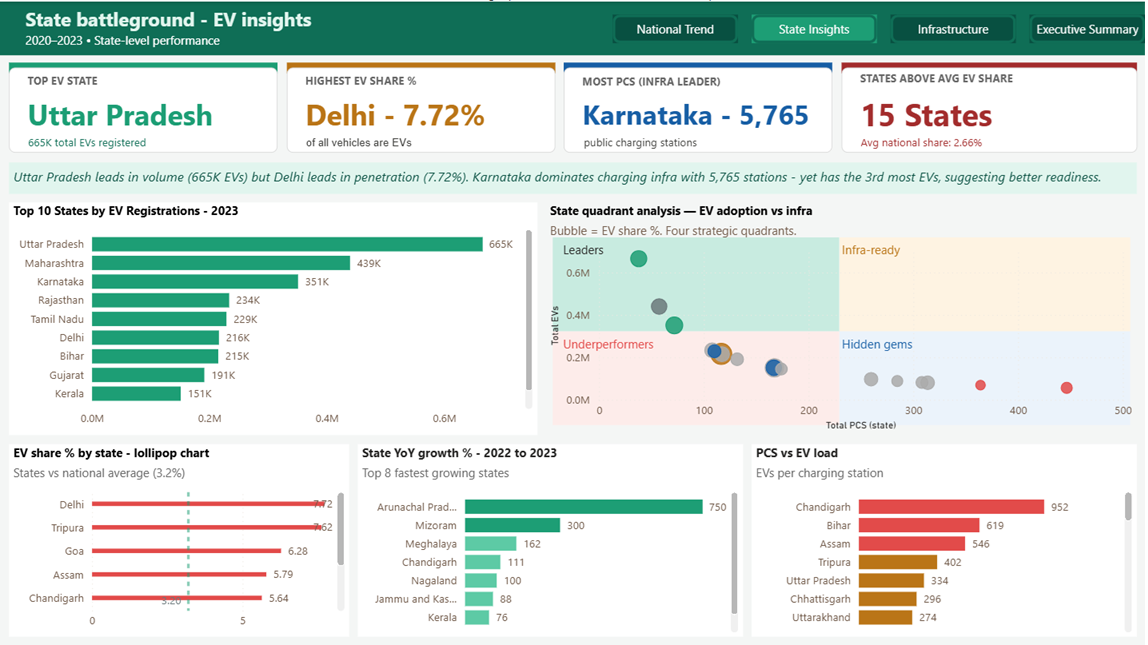

Layout of this report page (visuals, bound fields, positions):
{"tool":"powerbi","page":{"name":"State Insights","canvas":[1280,720],"ordinal":1},"visuals":[{"type":"shape","box":[0,0,1280,60],"z":0},{"type":"textbox","box":[24,0,880,80],"z":1000},{"type":"actionButton","box":[685,14,140,32],"z":2000},{"type":"actionButton","box":[840,14,140,32],"z":3000},{"type":"actionButton","box":[995,14,140,32],"z":4000},{"type":"actionButton","box":[1150,14,130,32],"z":5000},{"type":"shape","box":[10,68,300,12],"z":6000},{"type":"cardVisual","fields":{"Data":["EV Share %.Top EV State"]},"box":[10,74,300,95],"z":7000},{"type":"textbox","box":[24,144,304,80],"z":8000},{"type":"shape","box":[320,68,300,12],"z":9000},{"type":"cardVisual","fields":{"Data":["EV Share %.Highest EV Share %"]},"box":[320,74,300,95],"z":10000},{"type":"textbox","box":[334,144,304,80],"z":11000},{"type":"shape","box":[630,68,300,12],"z":12000},{"type":"cardVisual","fields":{"Data":["State-wise EVPCS.Most PCS State"]},"box":[630,74,300,95],"z":13000},{"type":"textbox","box":[644,144,304,80],"z":14000},{"type":"shape","box":[940,68,330,12],"z":15000},{"type":"cardVisual","fields":{"Data":["EV Share %.States Above Avg EV Share"]},"box":[940,74,330,95],"z":16000},{"type":"textbox","box":[954,144,326,80],"z":17000},{"type":"textbox","box":[10,180,1260,35],"z":18000},{"type":"clusteredBarChart","title":"Top 10 States by EV Registrations  - 2023","fields":{"Category":["EV Share %.State"],"Y":["Sum(EV Share %.Total_EV)"]},"box":[10,225,590,260],"z":19000},{"type":"shape","box":[938,369,325,105],"z":20000},{"type":"shape","box":[618,369,320,105],"z":21000},{"type":"shape","box":[938,264,325,105],"z":22000},{"type":"shape","box":[618,264,320,105],"z":23000},{"type":"scatterChart","title":"State quadrant analysis — EV adoption vs infra","fields":{"Y":["Sum(EV Share %.Total_EV)"],"Series":["EV Share %.State"],"Size":["Sum(EV Share %.EV_Share_Percent)"],"X":["EV Share %.PCS per EV Ratio"]},"box":[610,225,660,260],"z":24000},{"type":"textbox","box":[624,264,224,120],"z":25000},{"type":"textbox","box":[936,264,160,96],"z":26000},{"type":"textbox","box":[624,368,160,64],"z":27000},{"type":"textbox","box":[936,368,152,56],"z":28000},{"type":"clusteredBarChart","title":"EV share % by state - lollipop chart","fields":{"Category":["EV Share %.State"],"Y":["Sum(EV Share %.EV_Share_Percent)"]},"box":[10,495,380,215],"z":29000},{"type":"clusteredBarChart","title":"State YoY growth % - 2022 to 2023","fields":{"Category":["State_Dim.State"],"Y":["State-wise EV Registrations.State YoY Growth %"]},"box":[400,495,430,215],"z":30000},{"type":"clusteredBarChart","title":"PCS vs EV load","fields":{"Category":["State_Dim.State"],"Y":["EV Share %.EV Load per PCS"]},"box":[840,495,430,215],"z":31000}]}

Visuals, with their boxes in screenshot pixels (x1, y1, x2, y2), scaled from the page's 1280x720 canvas onto the 1148x645 screenshot:
shape: (0, 0, 1147, 54)
textbox: (22, 0, 811, 72)
actionButton: (614, 13, 740, 41)
actionButton: (753, 13, 879, 41)
actionButton: (892, 13, 1018, 41)
actionButton: (1031, 13, 1147, 41)
shape: (9, 61, 278, 72)
cardVisual - EV Share %.Top EV State: (9, 66, 278, 151)
textbox: (22, 129, 294, 201)
shape: (287, 61, 556, 72)
cardVisual - EV Share %.Highest EV Share %: (287, 66, 556, 151)
textbox: (300, 129, 572, 201)
shape: (565, 61, 834, 72)
cardVisual - State-wise EVPCS.Most PCS State: (565, 66, 834, 151)
textbox: (578, 129, 850, 201)
shape: (843, 61, 1139, 72)
cardVisual - EV Share %.States Above Avg EV Share: (843, 66, 1139, 151)
textbox: (856, 129, 1147, 201)
textbox: (9, 161, 1139, 193)
"Top 10 States by EV Registrations  - 2023" clusteredBarChart: (9, 202, 538, 434)
shape: (841, 331, 1133, 425)
shape: (554, 331, 841, 425)
shape: (841, 236, 1133, 331)
shape: (554, 236, 841, 331)
"State quadrant analysis — EV adoption vs infra" scatterChart: (547, 202, 1139, 434)
textbox: (560, 236, 761, 344)
textbox: (839, 236, 983, 322)
textbox: (560, 330, 703, 387)
textbox: (839, 330, 976, 380)
"EV share % by state - lollipop chart" clusteredBarChart: (9, 443, 350, 636)
"State YoY growth % - 2022 to 2023" clusteredBarChart: (359, 443, 744, 636)
"PCS vs EV load" clusteredBarChart: (753, 443, 1139, 636)
